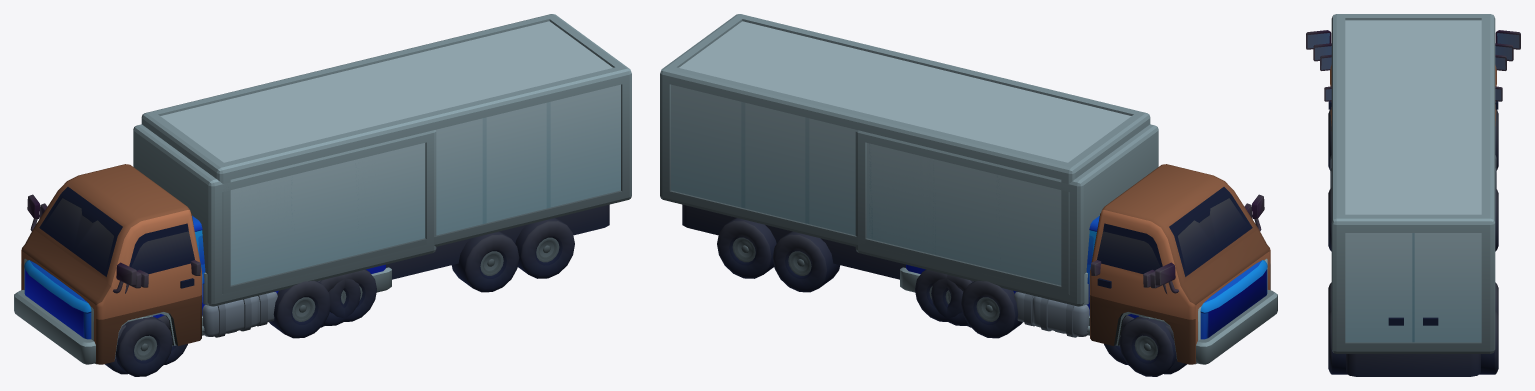
Rendered from Vehicles.fbx.
3 renders of one model, left to right at view 1: azimuth 30°, elevation 25°; view 2: azimuth 150°, elevation 25°; view 3: azimuth 270°, elevation 25°, orthographic. The views are drawn at different scales.
Parts seen in each view (by area): view 1: Vehicle 5, Vehicle 4, Vehicle 2, Vehicle 5 RW2, Vehicle 5 RW3, Vehicle 5 FW, Vehicle 5 RW1, Vehicle 4 RW, Vehicle 3, Vehicle 3 RW; view 2: Vehicle 5, Vehicle 4, Vehicle 2, Vehicle 5 RW2, Vehicle 5 RW3, Vehicle 5 FW, Vehicle 5 RW1, Vehicle 4 RW, Vehicle 3, Vehicle 3 RW; view 3: Vehicle 5, Vehicle 5 RW3, Vehicle 3, Vehicle 5 RW1, Vehicle 5 FW, Vehicle 2, Vehicle 1, Vehicle 5 RW2.
Boxes of the visible parts, x1,y1,x2,y2 form: Vehicle 5: [21, 14, 631, 364]; Vehicle 4: [133, 124, 436, 306]; Vehicle 2: [14, 215, 391, 364]; Vehicle 5 RW2: [451, 231, 519, 292]; Vehicle 5 RW3: [515, 218, 574, 278]; Vehicle 5 FW: [115, 316, 172, 376]; Vehicle 5 RW1: [269, 280, 330, 338]; Vehicle 4 RW: [329, 269, 376, 321]; Vehicle 3: [24, 203, 277, 364]; Vehicle 3 RW: [319, 274, 360, 325]; Vehicle 5: [660, 14, 1270, 364]; Vehicle 4: [855, 124, 1158, 306]; Vehicle 2: [900, 215, 1277, 364]; Vehicle 5 RW2: [772, 231, 840, 292]; Vehicle 5 RW3: [717, 218, 776, 278]; Vehicle 5 FW: [1119, 316, 1176, 376]; Vehicle 5 RW1: [961, 280, 1022, 338]; Vehicle 4 RW: [915, 269, 962, 321]; Vehicle 3: [1014, 203, 1267, 364]; Vehicle 3 RW: [931, 274, 972, 325]; Vehicle 5: [1306, 14, 1520, 376]; Vehicle 5 RW3: [1328, 310, 1498, 374]; Vehicle 3: [1313, 43, 1513, 61]; Vehicle 5 RW1: [1328, 187, 1498, 251]; Vehicle 5 FW: [1328, 109, 1498, 170]; Vehicle 2: [1320, 54, 1506, 70]; Vehicle 1: [1324, 86, 1502, 101]; Vehicle 5 RW2: [1328, 282, 1498, 315].
Bounding box in the file's own units: 398 × 131 × 131.
